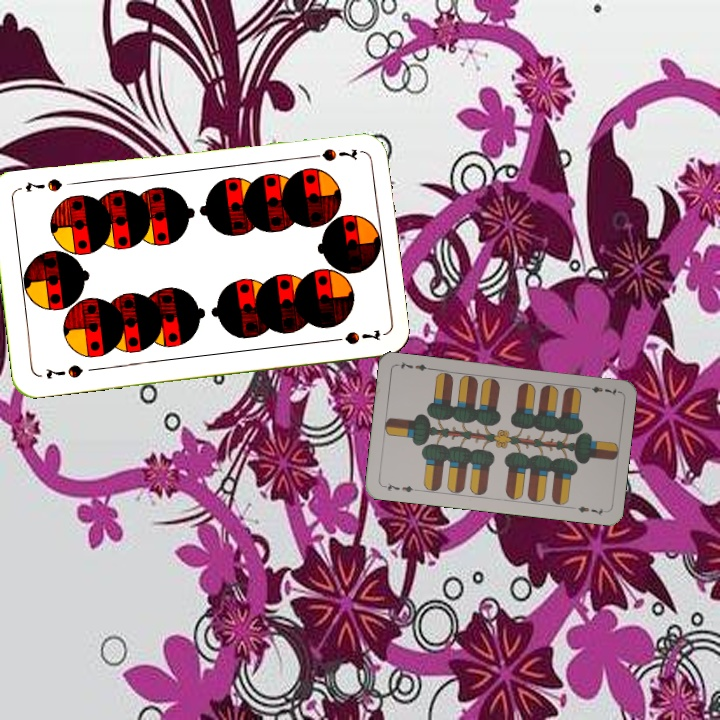E7: (379, 479, 420, 495), (580, 382, 621, 398)
S7: (303, 144, 360, 164), (42, 360, 85, 382)
